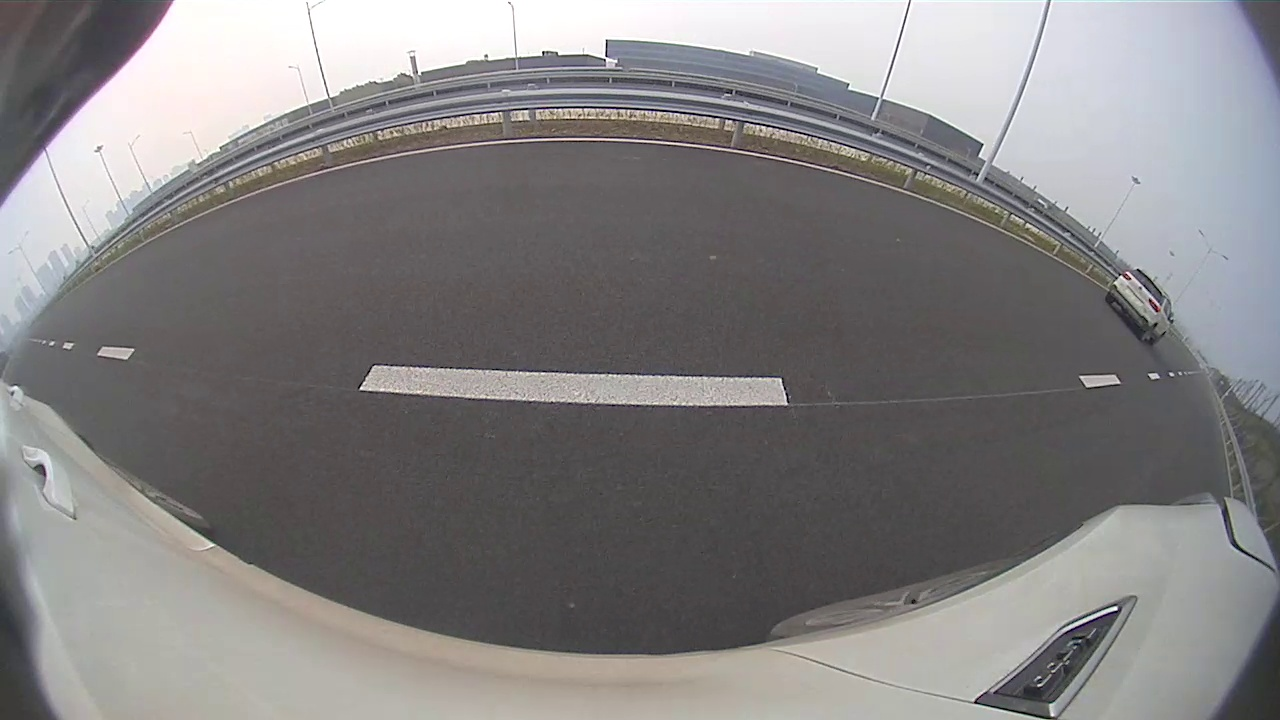car: (693, 153, 746, 191)
rear: (702, 174, 710, 190)
